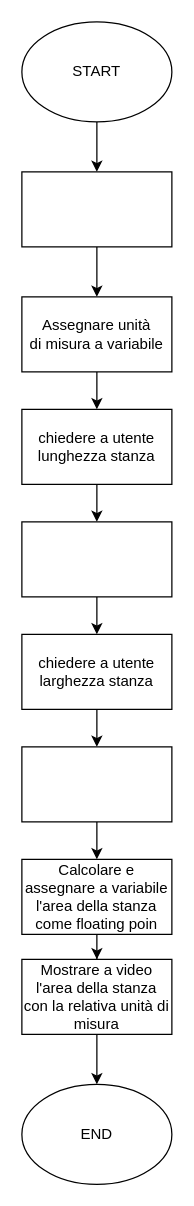
This 194x1206 diagram has some shape labels left out. Here are the shapes that lost their labels. From the top down, the centre of each, then its label:
[96,209]: Chiedere utente unità di misura delle lunghezze
[96,559]: Assegnare lunghezza stanza a variable come floating point
[96,784]: Assegnare larghezza stanza a variabile come floating point
